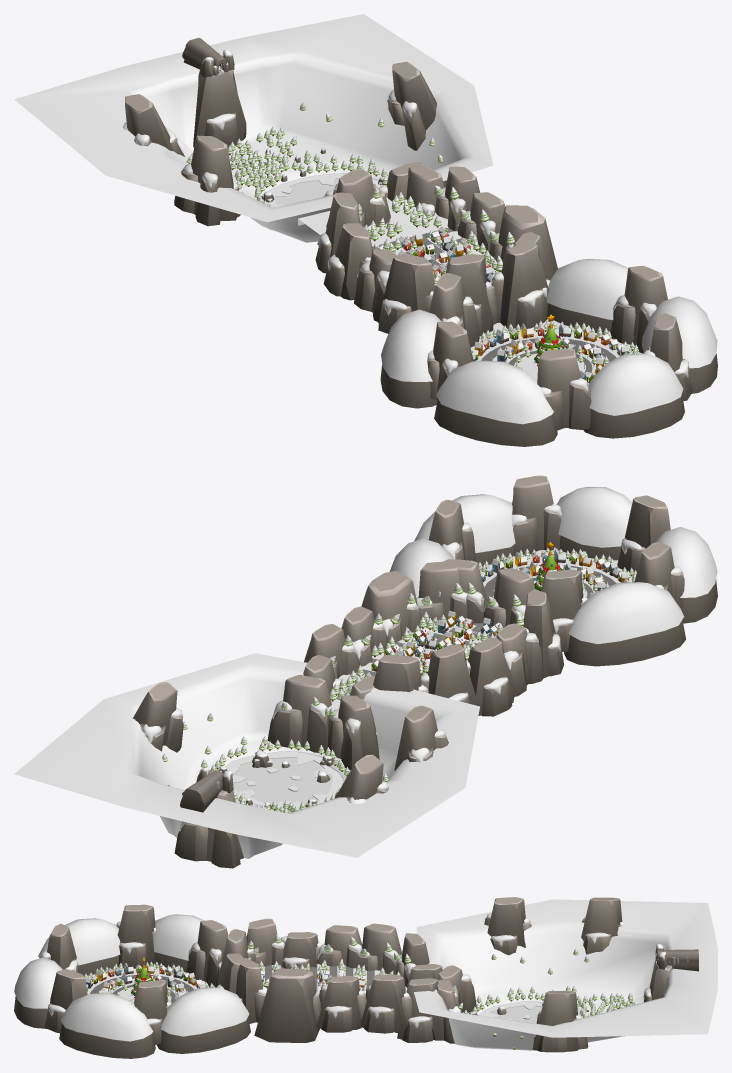
Rendered from Environment.fbx.
The picture shows the model from 3 angles, top to bottom: view 1: azimuth 30°, elevation 25°; view 2: azimuth 150°, elevation 25°; view 3: azimuth 270°, elevation 25°; orthographic projection. The views are drawn at different scales.
Visible parts, largest first — view 1: Plane, Cube.005, Cube.004, Cube.002, Cube.006, SM_RockSnow_03.022, Cube.003, SM_RockSnow_03.027, SM_RockSnow_03.011, SM_RockSnow_03, SM_RockSnow_03.025, SM_RockSnow_03.016 (+18 smaller); view 2: Plane, Cube.006, Cube.004, SM_RockSnow_03.005, Cube.005, SM_RockSnow_03.026, Cube.003, SM_RockSnow_03.014, SM_RockSnow_03.006, SM_RockSnow_03.019, SM_RockSnow_03, SM_RockSnow_03.007 (+20 smaller); view 3: Plane, Cube.003, Cube.002, SM_RockSnow_03.019, SM_RockSnow_03.017, Cube.005, SM_RockSnow_03.018, Cube.004, SM_RockSnow_03.023, Cube.006, SM_RockSnow_03.007, SM_RockSnow_03.011 (+21 smaller).
Part boxes in pixels (<box>): Plane: <box>14,14,493,242</box>; Cube.005: <box>434,360,557,446</box>; Cube.004: <box>583,353,684,438</box>; Cube.002: <box>546,259,628,334</box>; Cube.006: <box>380,309,441,408</box>; SM_RockSnow_03.022: <box>491,241,548,328</box>; Cube.003: <box>642,296,717,393</box>; SM_RockSnow_03.027: <box>537,348,591,431</box>; SM_RockSnow_03.011: <box>174,135,240,226</box>; SM_RockSnow_03: <box>193,69,246,147</box>; SM_RockSnow_03.025: <box>610,265,667,353</box>; SM_RockSnow_03.016: <box>377,253,434,333</box>; Plane: <box>14,653,479,858</box>; Cube.006: <box>564,582,685,666</box>; Cube.004: <box>557,487,632,560</box>; SM_RockSnow_03.005: <box>267,674,331,753</box>; Cube.005: <box>654,527,717,623</box>; SM_RockSnow_03.026: <box>511,475,561,555</box>; Cube.003: <box>414,494,515,566</box>; SM_RockSnow_03.014: <box>466,637,515,716</box>; SM_RockSnow_03.006: <box>328,695,379,770</box>; SM_RockSnow_03.019: <box>361,571,421,643</box>; SM_RockSnow_03: <box>174,790,243,868</box>; SM_RockSnow_03.007: <box>133,682,183,752</box>; Plane: <box>414,899,717,1050</box>; Cube.003: <box>59,993,155,1058</box>; Cube.002: <box>156,987,250,1053</box>; SM_RockSnow_03.019: <box>254,968,321,1042</box>; SM_RockSnow_03.017: <box>361,974,412,1033</box>; Cube.005: <box>38,918,120,975</box>; SM_RockSnow_03.018: <box>316,976,366,1032</box>; Cube.004: <box>14,957,62,1028</box>; SM_RockSnow_03.023: <box>116,904,155,968</box>; Cube.006: <box>153,914,204,972</box>; SM_RockSnow_03.007: <box>532,991,588,1052</box>; SM_RockSnow_03.011: <box>484,897,531,955</box>.
Bounding box in the file's own units: 21357 × 5859 × 45905.
